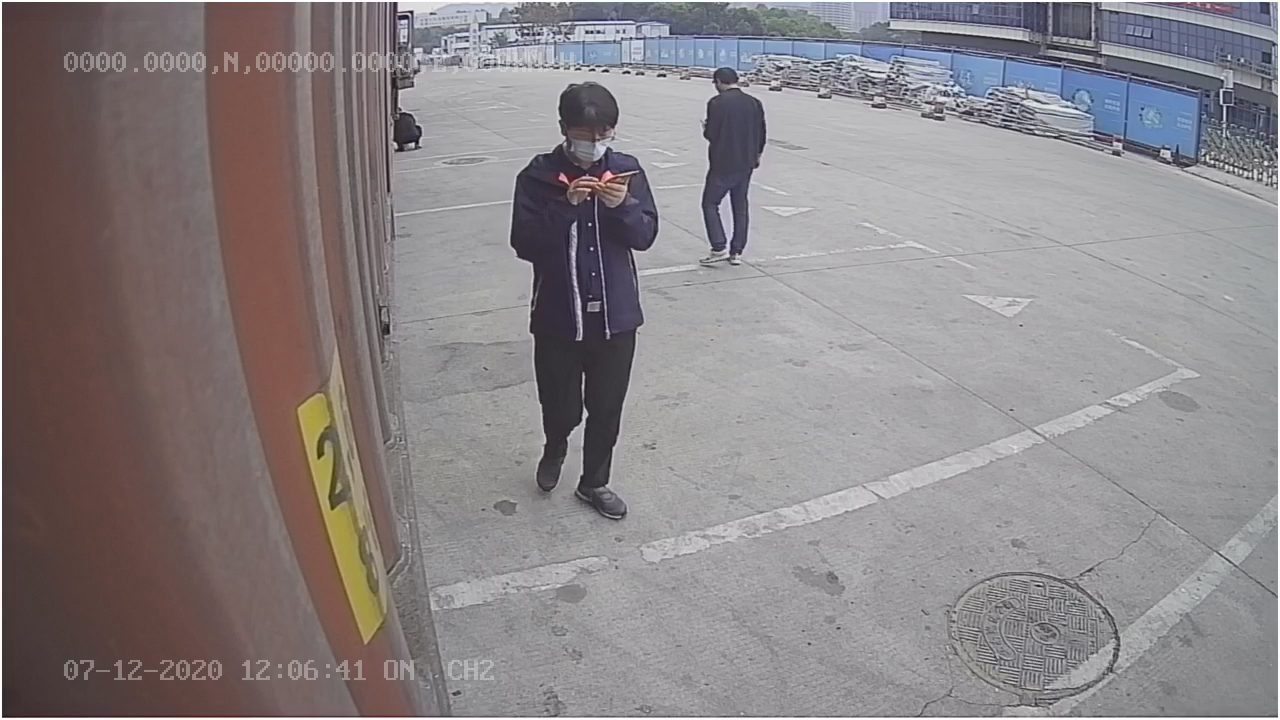person: (506, 73, 653, 519), (691, 60, 772, 264)
